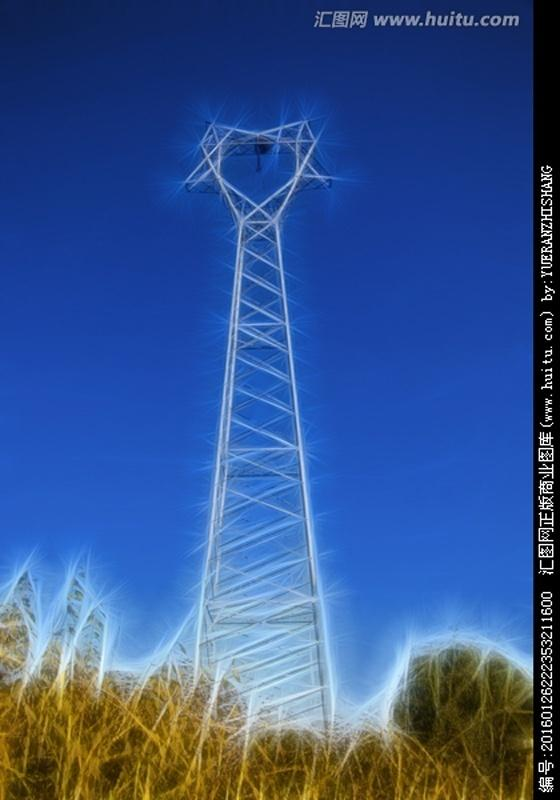power_tower: (159, 109, 355, 738)
